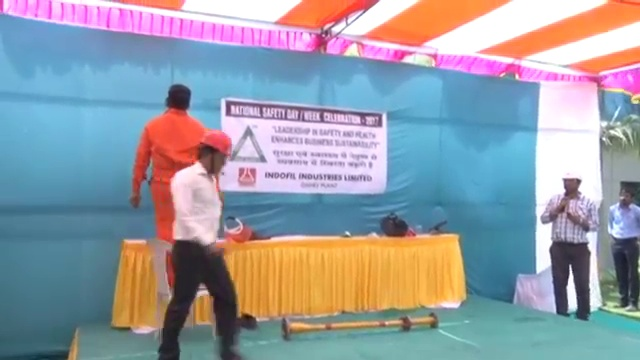helmet: (199, 128, 233, 158), (559, 166, 582, 181)
helmet_off: (165, 83, 191, 110), (617, 187, 635, 206)
helmet_on: (195, 128, 233, 181), (559, 164, 585, 199)
person: (156, 126, 237, 360), (134, 83, 207, 287), (537, 164, 597, 321), (606, 187, 640, 311)
